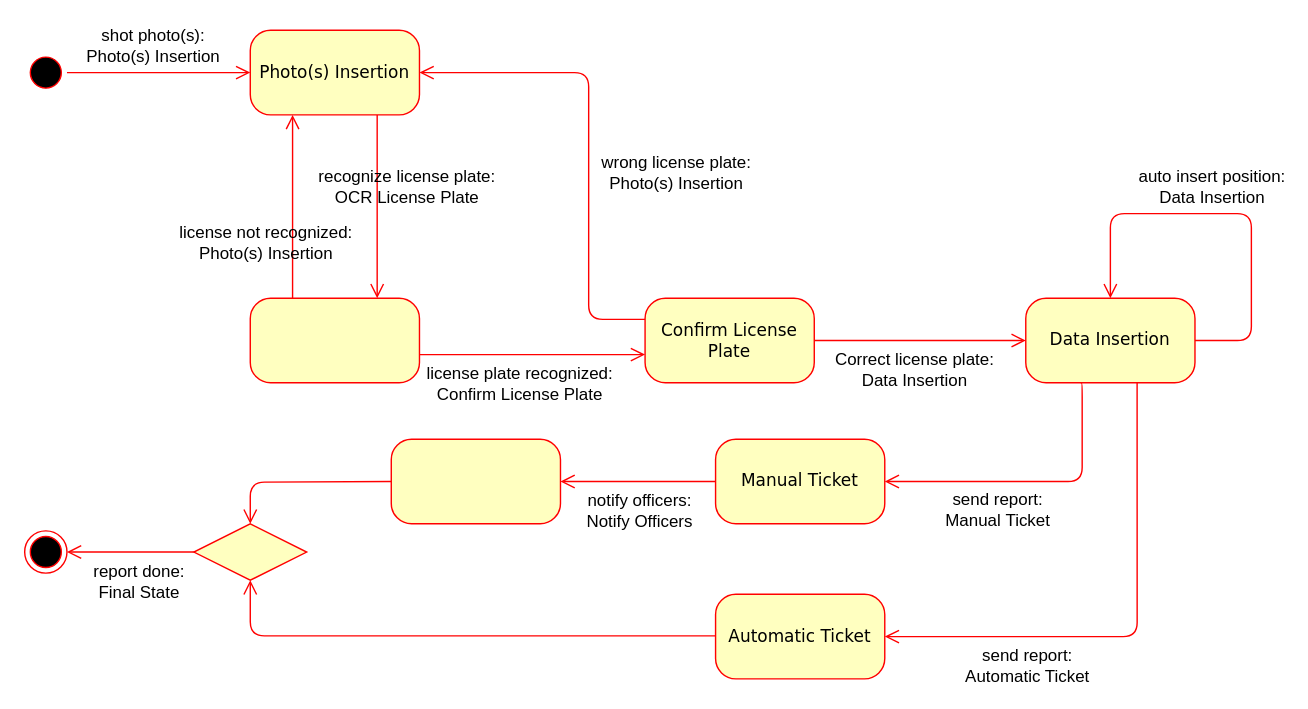
Image size: 1308x709. Some labels were removed from this diagram. Here are the shapes that lost their labels. From the top down, the box of each, then its label:
(249, 297, 419, 383): OCR License Plate
(390, 438, 560, 524): Notify Officers
